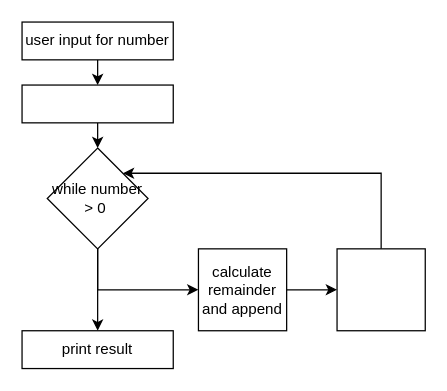
The diagram is 447 pixels wide and 391 high, and some of its shapes have lost their labels. Each missing label, with the centre of its shape:
"calculate next number" belongs at pixel 380 289.
"initiate list" belongs at pixel 97 103.
